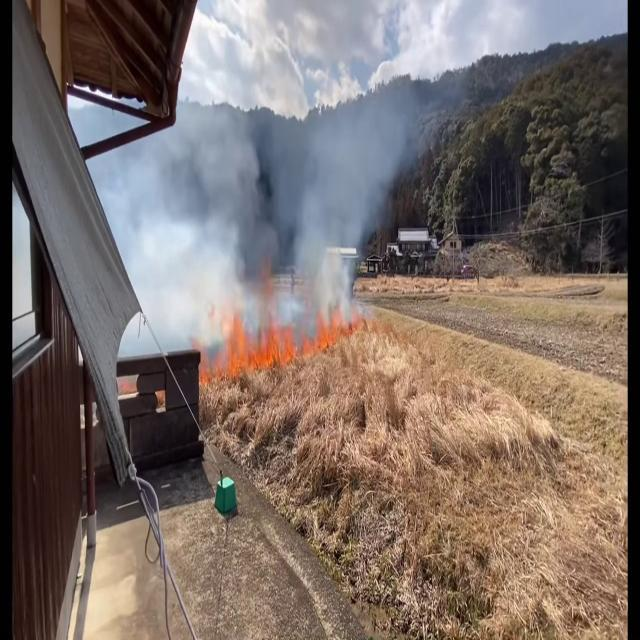Fire: (204, 292, 318, 382), (317, 280, 378, 358)
Smoke: (165, 49, 429, 353)
